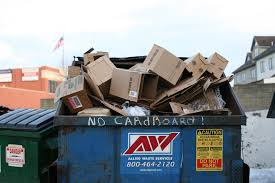Dumpster: (53, 44, 253, 183), (1, 108, 57, 183)
